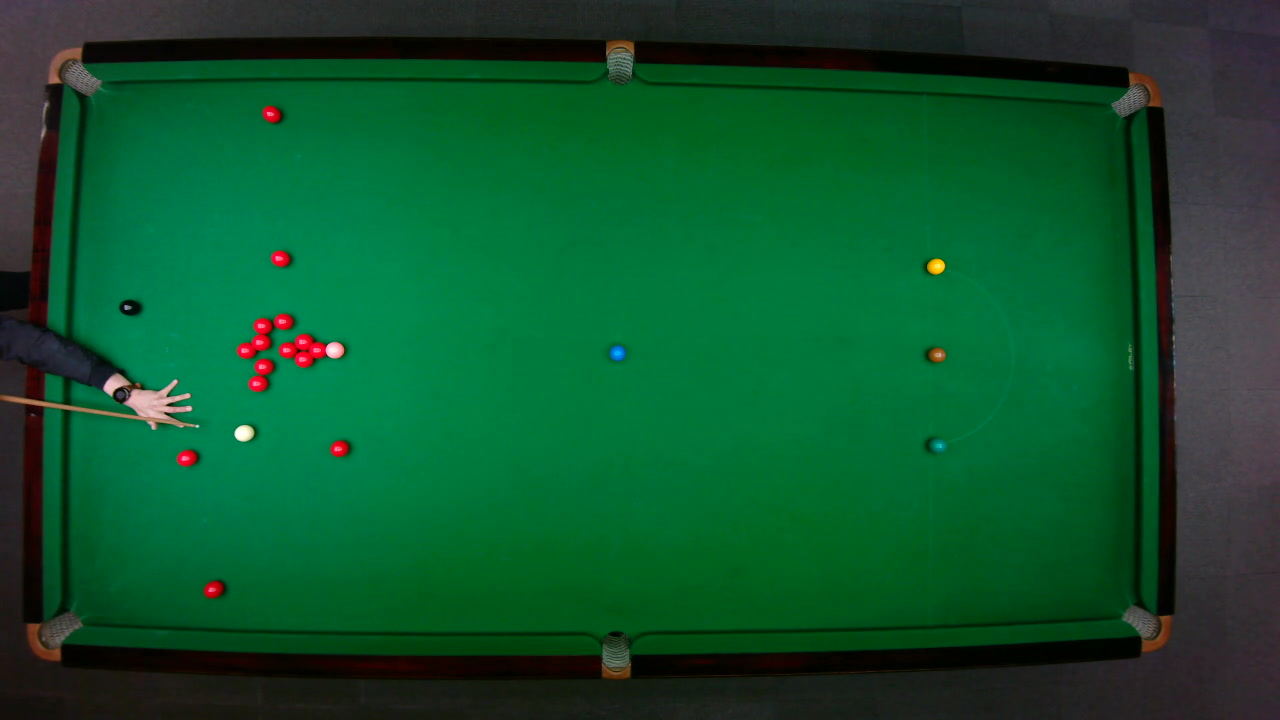bag: (25, 609, 84, 661), (45, 46, 102, 96), (1119, 603, 1172, 652), (1108, 71, 1161, 118), (600, 629, 629, 680), (605, 38, 633, 85)
black: (117, 298, 140, 315)
blue: (607, 343, 626, 361)
brown: (926, 346, 946, 362)
cue: (0, 392, 201, 430)
green: (926, 435, 946, 453)
pink: (323, 340, 345, 359)
red: (202, 578, 224, 598), (261, 104, 282, 123), (252, 357, 274, 375), (246, 374, 268, 392), (175, 448, 197, 466), (269, 249, 290, 267), (272, 312, 293, 330), (292, 350, 314, 367), (252, 316, 272, 334), (329, 439, 349, 457), (235, 341, 256, 358), (277, 341, 297, 358), (250, 333, 270, 350), (293, 332, 313, 349), (308, 340, 325, 358)
white: (233, 423, 255, 441)
yellow: (925, 257, 946, 274)
zone: (927, 265, 1013, 445)
